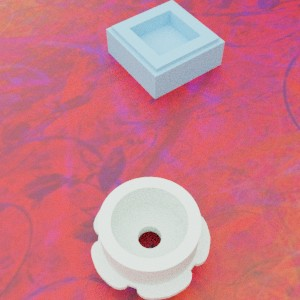lego: (91, 177, 210, 300), (106, 0, 224, 99)
